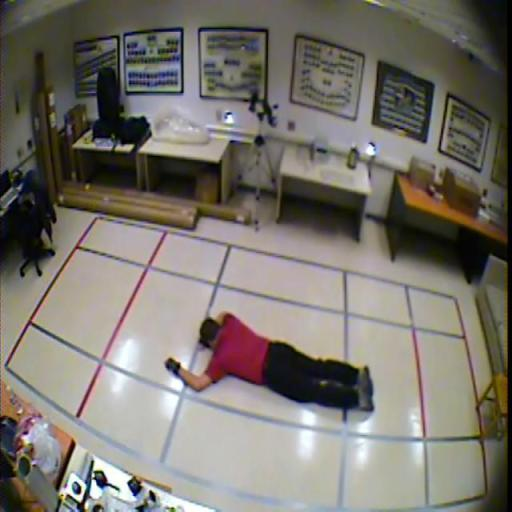Fall: (165, 311, 376, 416)
